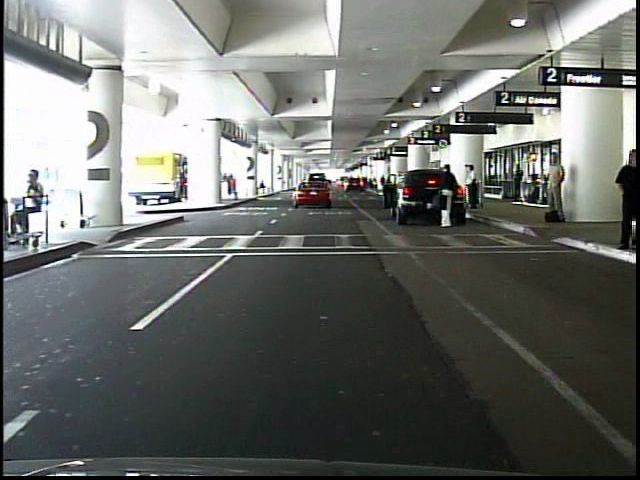person: (607, 148, 640, 247), (7, 166, 49, 240), (440, 164, 458, 229), (464, 164, 480, 211), (513, 162, 525, 201)
